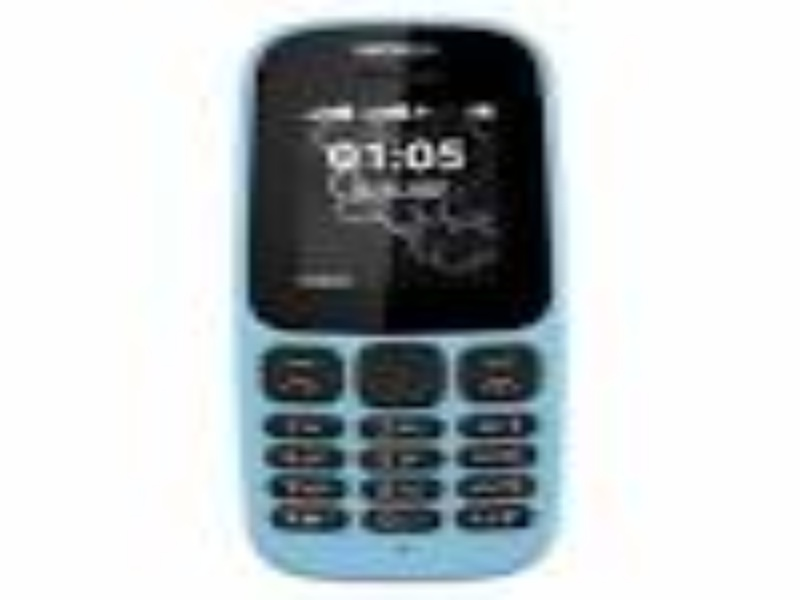mobile: (227, 16, 584, 595)
